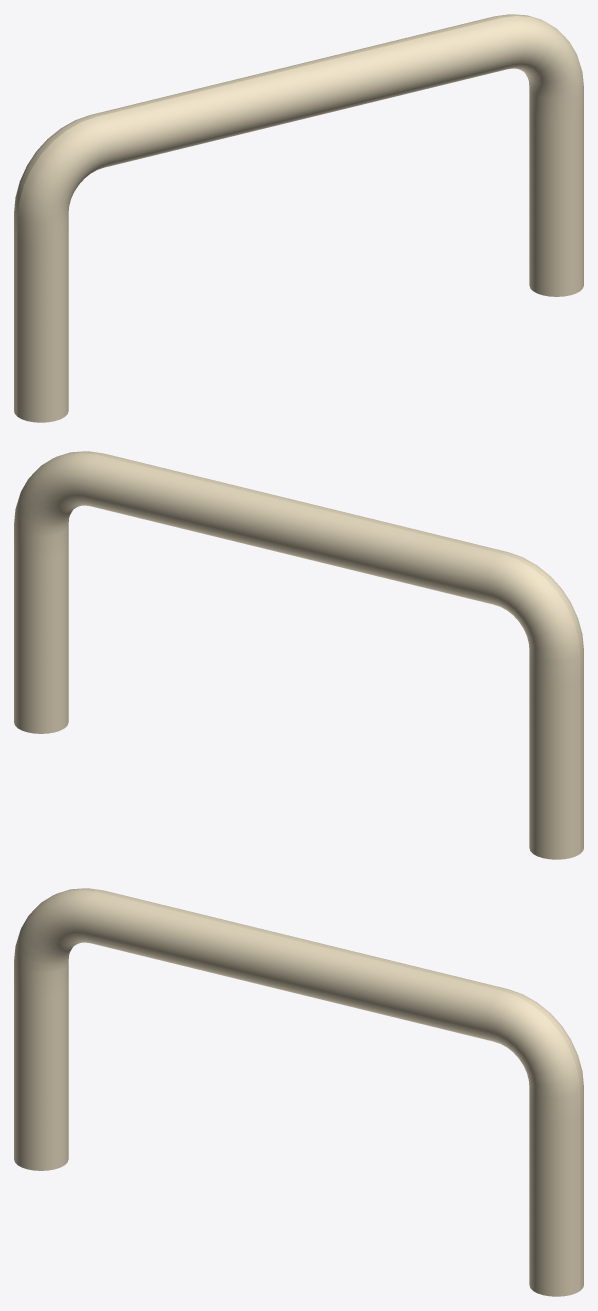
File: arch.glb
The picture shows the model from 3 angles, top to bottom: view 1: azimuth 30°, elevation 25°; view 2: azimuth 150°, elevation 25°; view 3: azimuth 330°, elevation 25°; orthographic projection.
Visible parts, largest first — view 1: ivory; view 2: ivory; view 3: ivory.
Part boxes in pixels (x1=…): ivory: x1=14, y1=14, x2=583, y2=422; ivory: x1=14, y1=451, x2=583, y2=859; ivory: x1=14, y1=888, x2=583, y2=1296.
Size of the model in its own units: 13.1 by 6.25 by 1.1.
